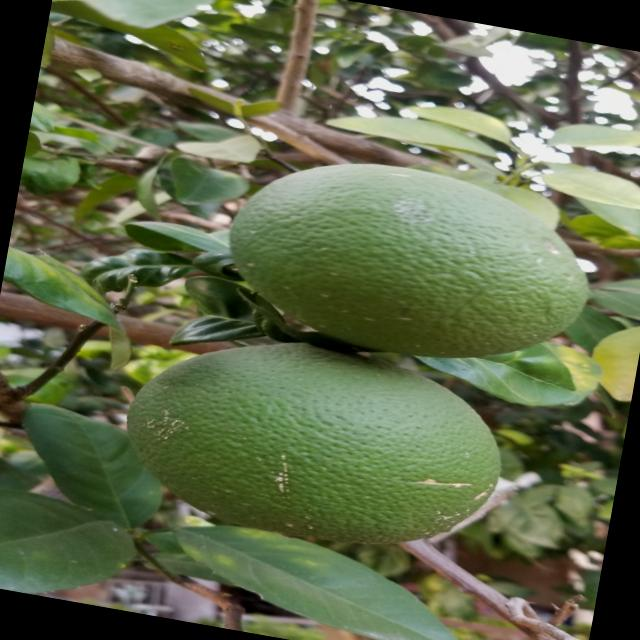Unripe: (94, 310, 535, 582), (184, 132, 619, 392)
